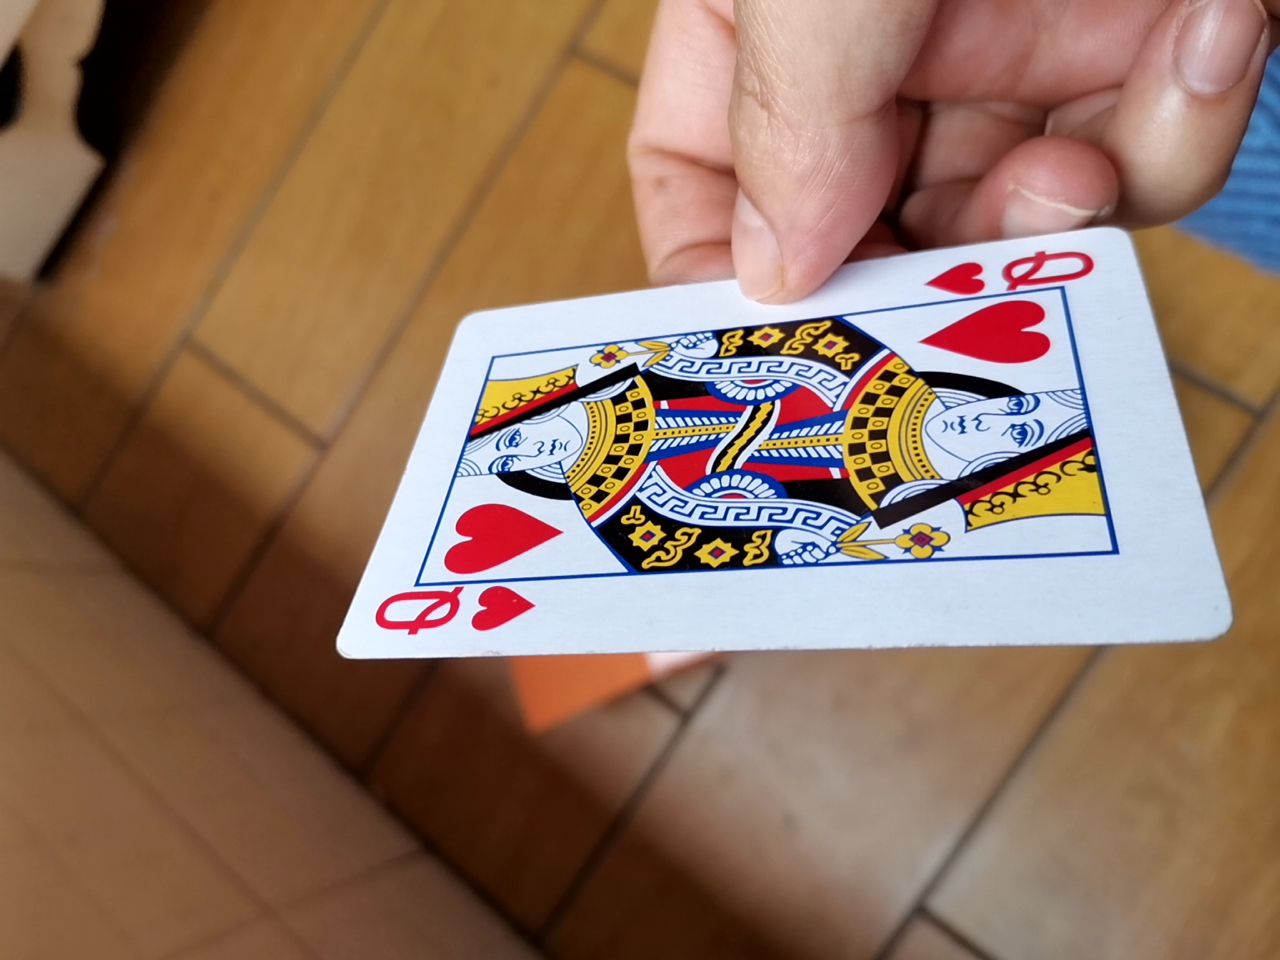hx q: (296, 239, 1218, 674)
